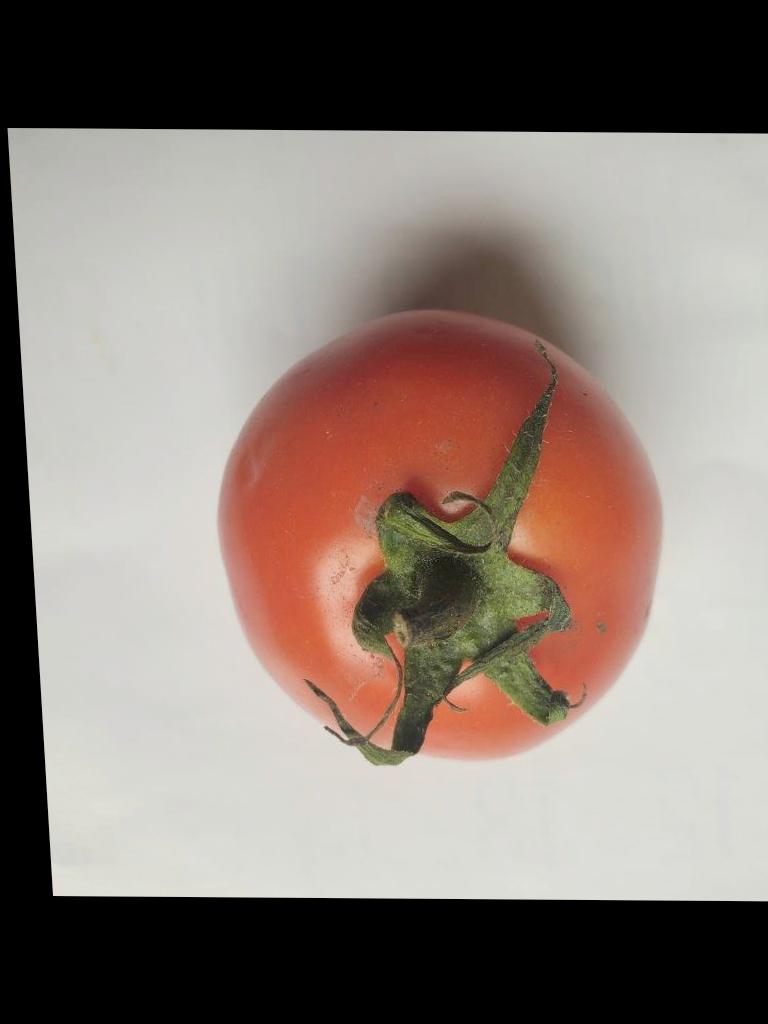tomato: (219, 312, 660, 764)
